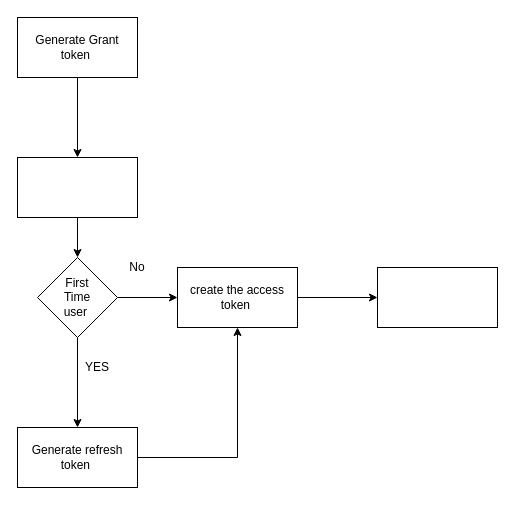
Some shapes in this 515 by 505 pixel diagram are drawn without their labels. Each missing label, with the centre of its shape:
Check for token validity and Fire APis: (437,297)
Extract the code: (77,187)
